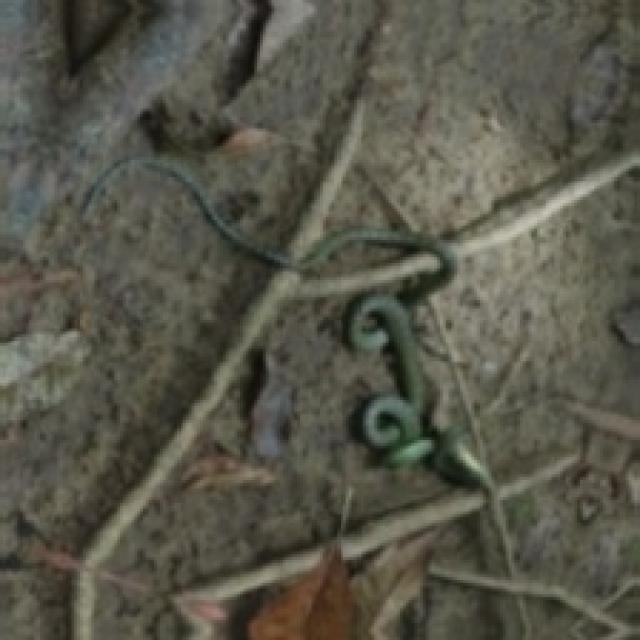paradise tree snake: (71, 254, 431, 637), (94, 157, 491, 489)
